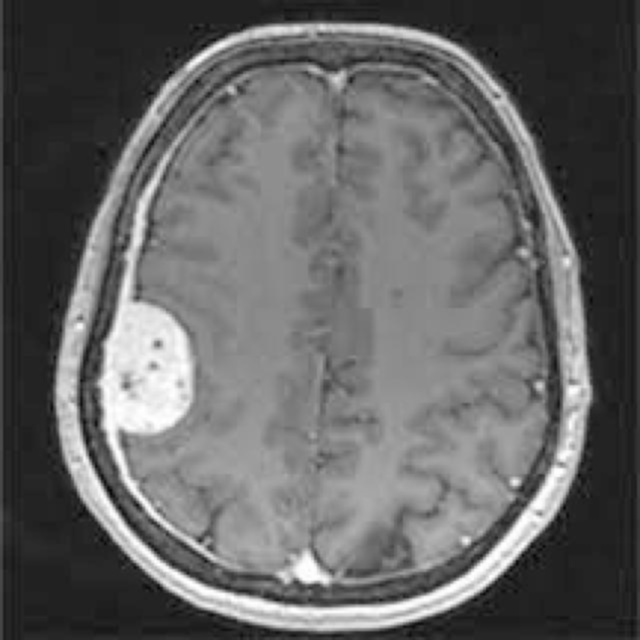meningioma tumor: (98, 284, 219, 460)
